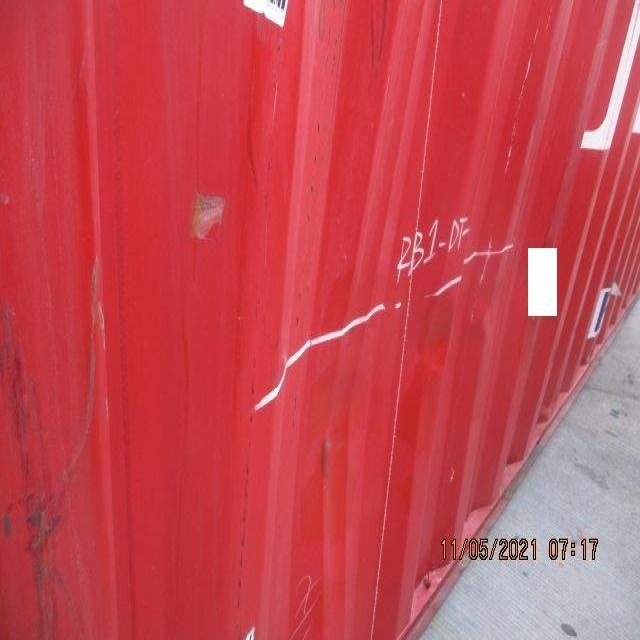dent: (259, 244, 515, 556)
